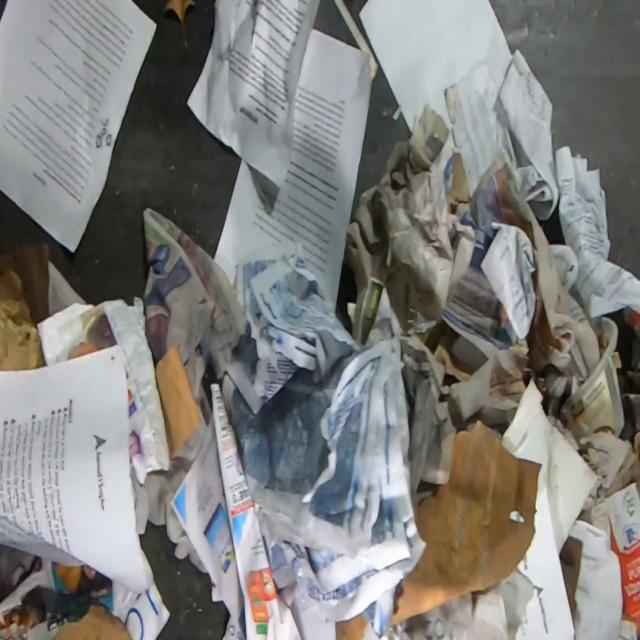cardboard: (590, 482, 640, 639), (154, 342, 204, 462), (0, 240, 53, 325), (50, 604, 136, 640), (447, 152, 471, 214)
rigid_plastic: (557, 316, 626, 447)
soft_plastic: (0, 541, 36, 594)
